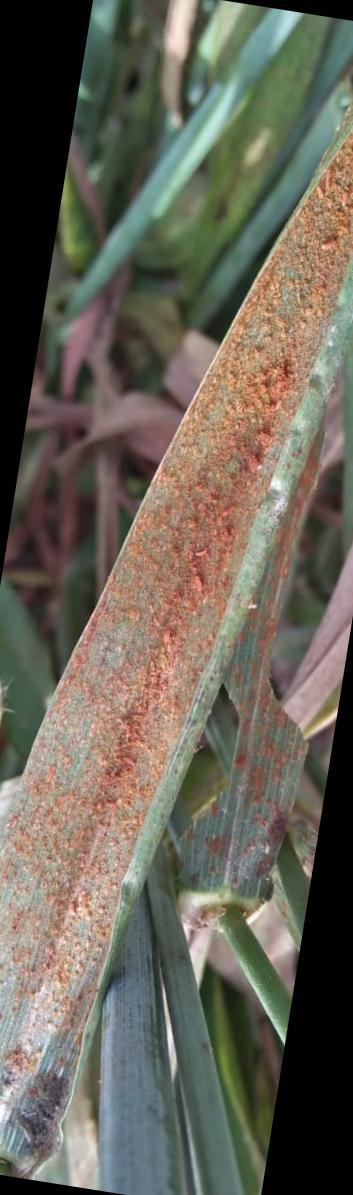Wheat: (3, 174, 346, 1024)
